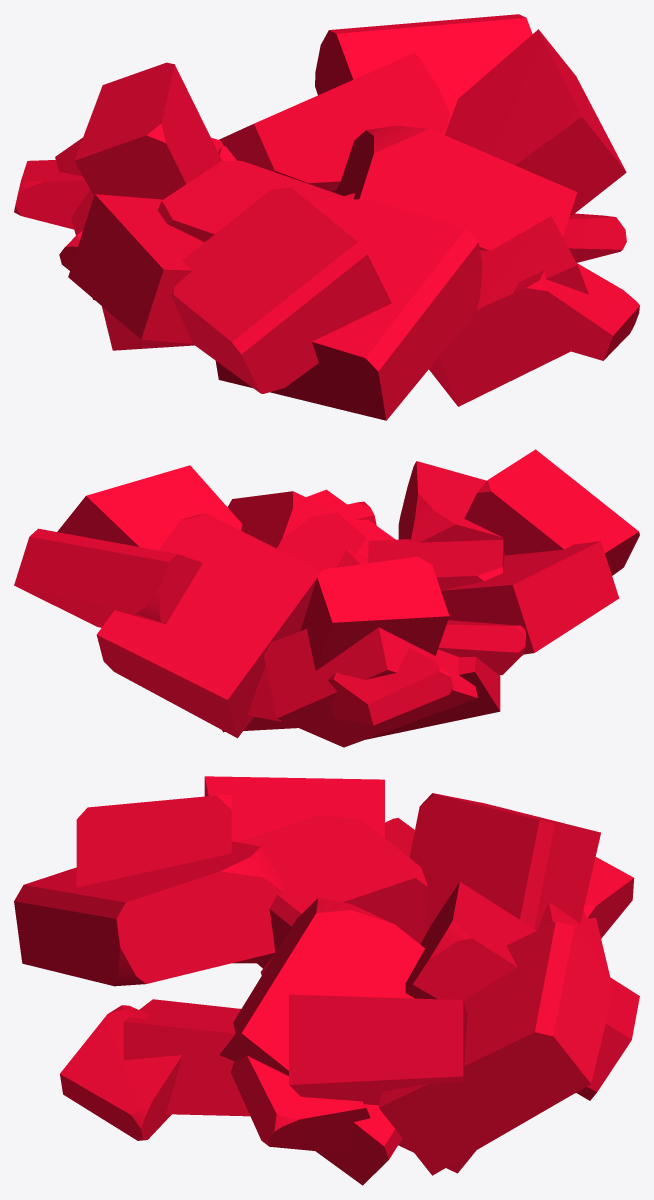
3 views of the same model, one above another, from view 1: azimuth 30°, elevation 25°; view 2: azimuth 150°, elevation 25°; view 3: azimuth 270°, elevation 25° (orthographic). The views are drawn at different scales.
Parts seen in each view (by area): view 1: Box031; view 2: Box031; view 3: Box031.
Boxes of the visible parts, left/top/right/bottom form: Box031: left=14, top=14, right=639, bottom=420; Box031: left=14, top=449, right=639, bottom=747; Box031: left=14, top=776, right=639, bottom=1185.
Size of the model in its own units: 1237 by 1170 by 570.
